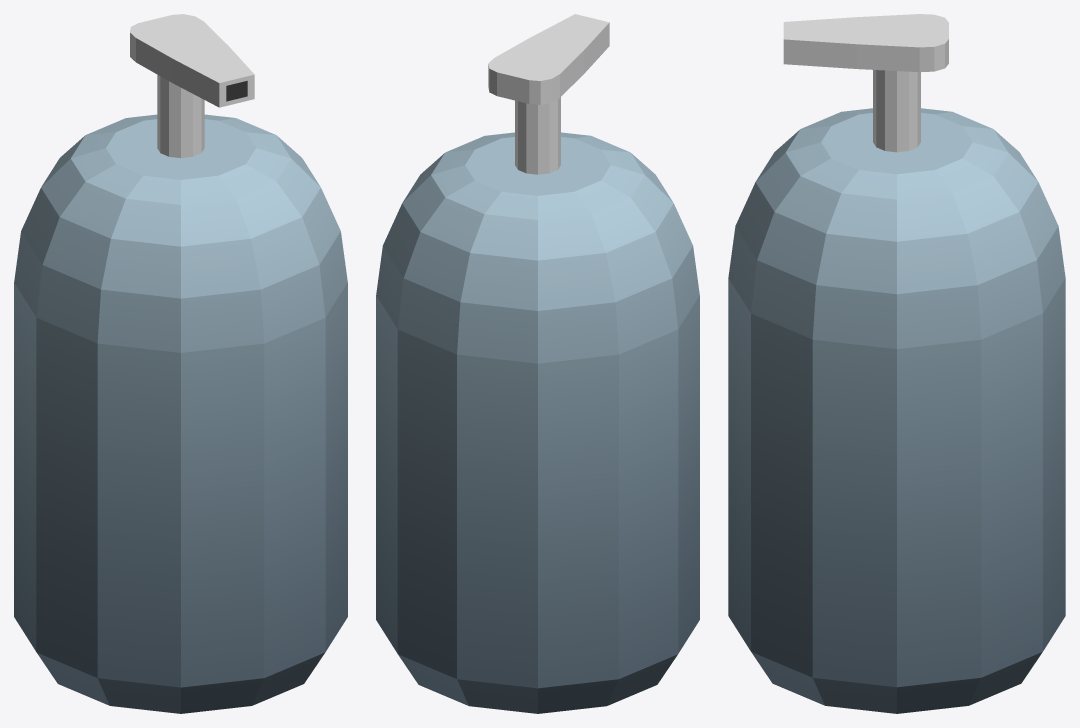
Rendered from BathroomProps_03.fbx.
3 renders of one model, left to right at view 1: azimuth 30°, elevation 25°; view 2: azimuth 150°, elevation 25°; view 3: azimuth 270°, elevation 25°, orthographic. The views are drawn at different scales.
Parts seen in each view (by area): view 1: BathroomProps_03; view 2: BathroomProps_03; view 3: BathroomProps_03.
Part boxes in pixels (left/top/right/bottom): BathroomProps_03: left=14, top=14, right=347, bottom=713; BathroomProps_03: left=376, top=14, right=699, bottom=713; BathroomProps_03: left=728, top=14, right=1065, bottom=713.
Size of the model in its own units: 8.06 by 16.42 by 8.06.
